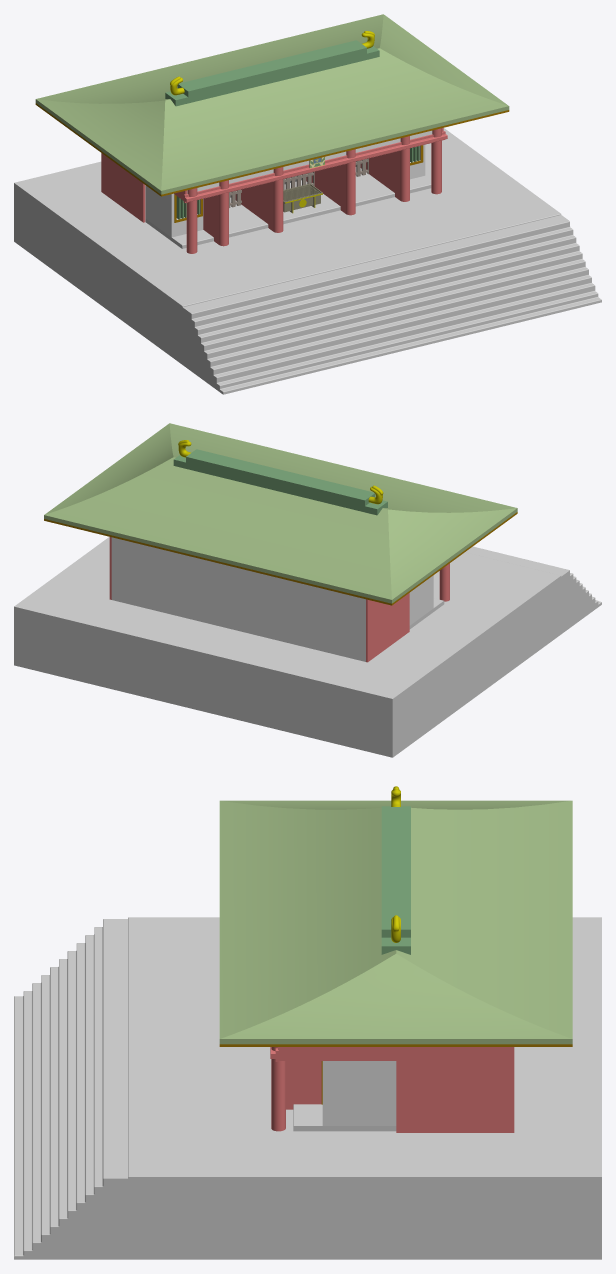
3 views of the same model, one above another, from view 1: azimuth 30°, elevation 25°; view 2: azimuth 150°, elevation 25°; view 3: azimuth 270°, elevation 25° (orthographic). The views are drawn at different scales.
Parts seen in each view (by area): view 1: 013_st_akamajingu; view 2: 013_st_akamajingu; view 3: 013_st_akamajingu.
Part boxes in pixels (x1,y1,x2,y2): 013_st_akamajingu: (14, 14, 601, 394); 013_st_akamajingu: (14, 423, 601, 757); 013_st_akamajingu: (14, 786, 601, 1259).
Size of the model in its own units: 0.209 by 0.1034 by 0.2.
